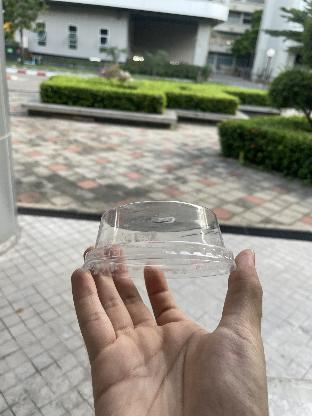Others: (85, 197, 238, 285)
